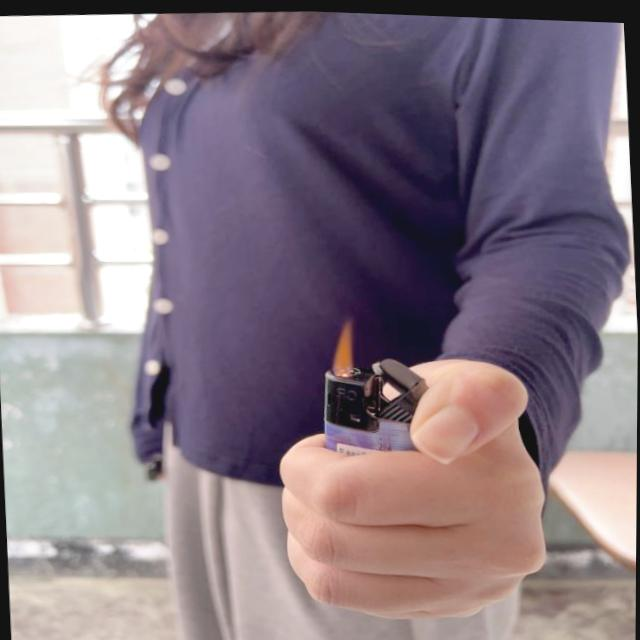Fire: (329, 314, 357, 374)
